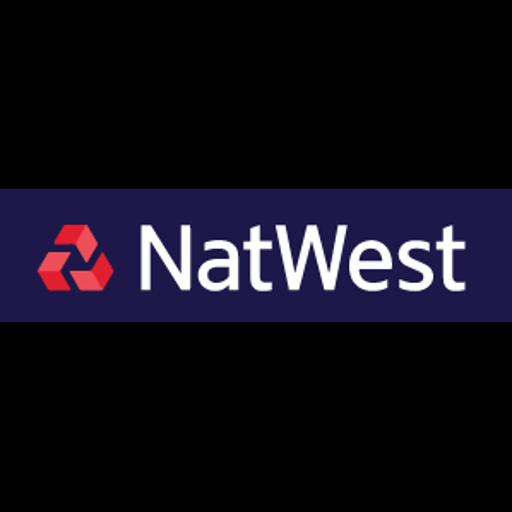NatWest Personal Banking: (0, 189, 512, 322)
